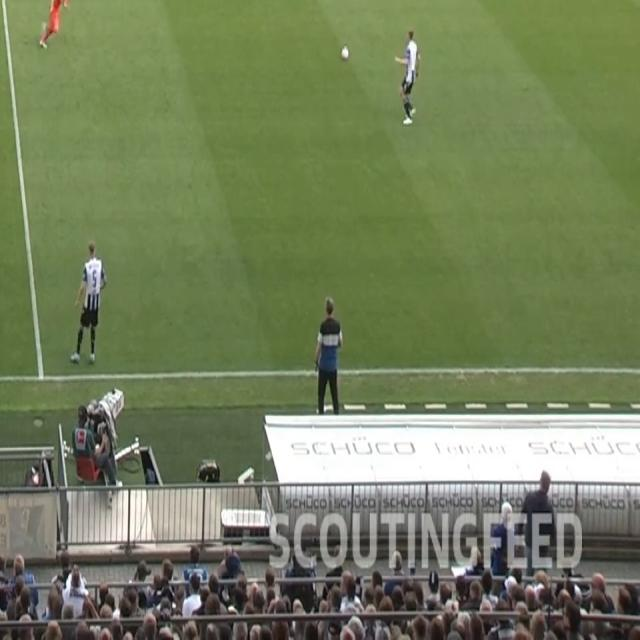ball: (341, 45, 349, 62)
